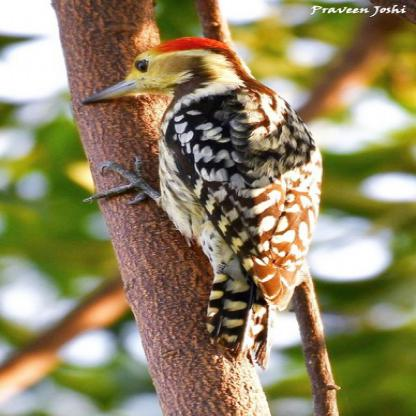Burung: (80, 36, 318, 368)
